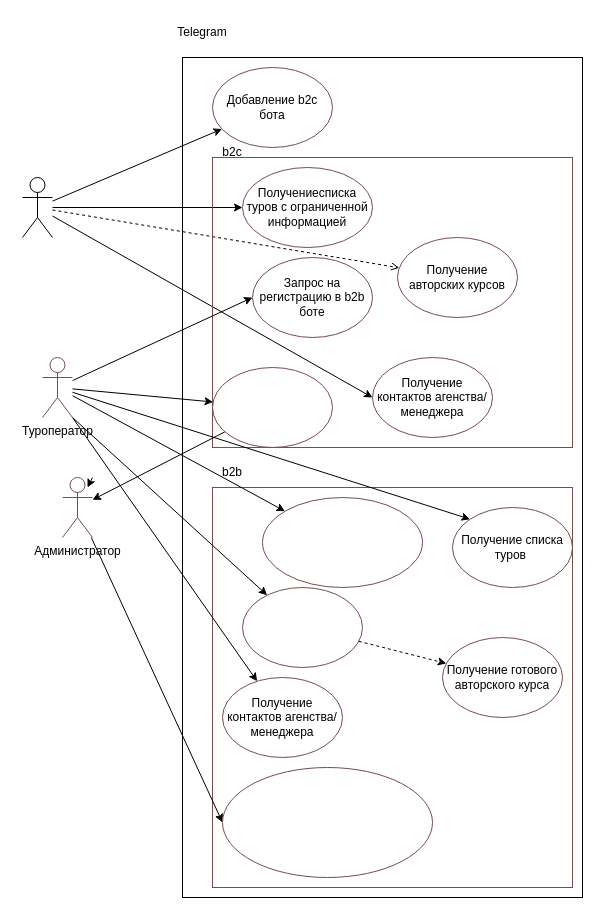
Some shapes in this 600 by 915 pixel diagram are drawn without their labels. The box of each missing label's shape, as (x1, y1, x2, y2) in pixels:
Запрос на вход в b2b бота: (212, 366, 332, 448)
Клиент: (22, 176, 52, 238)
Поиск тура по критериям: (242, 586, 362, 668)
Получение закреплённого сообщения с телеграмм каналом для партнёров: (262, 496, 422, 588)
Решение о выдаче доступа к b2b боту конкретномупользолвателю Telegramm: (222, 766, 432, 878)
